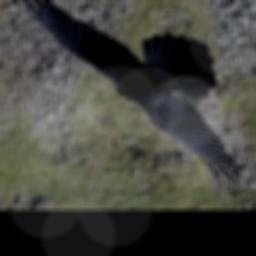Crow: (16, 0, 243, 181)
